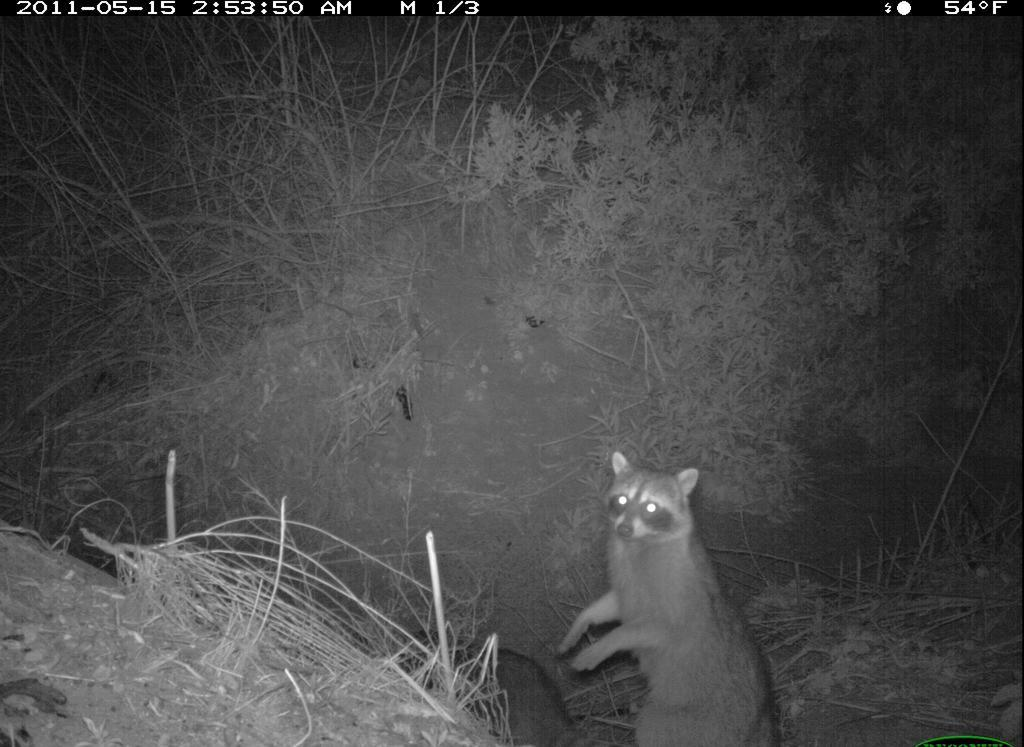raccoon: (551, 440, 790, 747)
